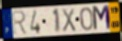1: (52, 8, 61, 34)
4: (30, 9, 42, 35)
M: (92, 4, 113, 33)
O: (79, 6, 94, 32)
R: (12, 10, 29, 36)
X: (61, 7, 77, 33)
